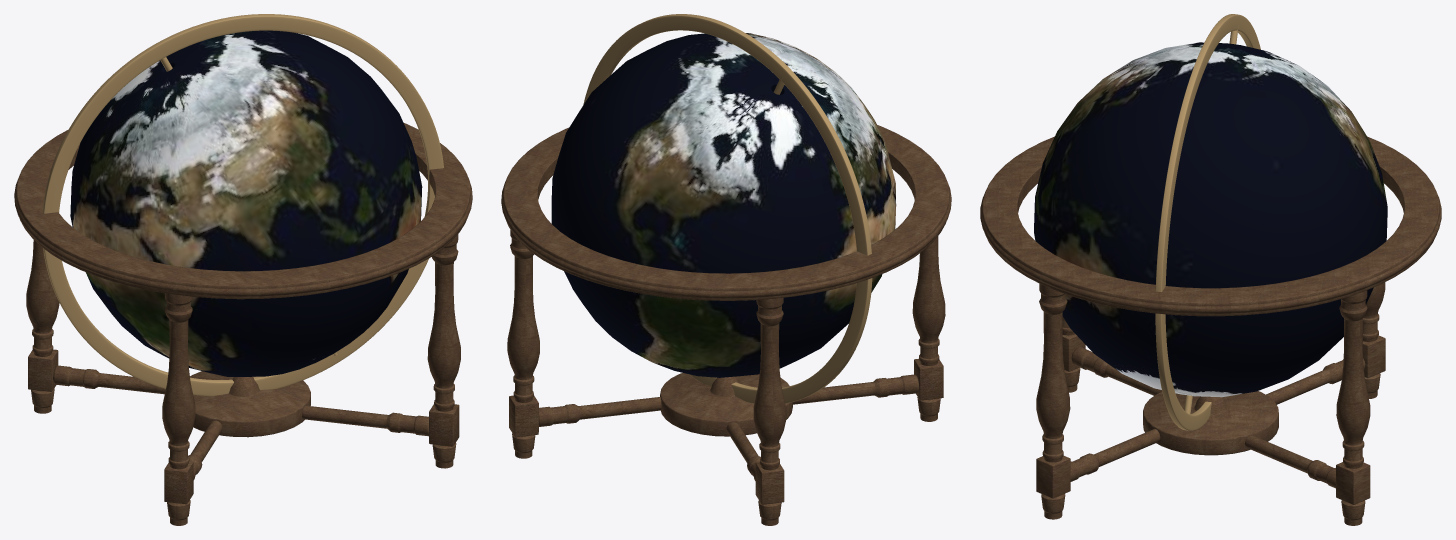
The model's file is Globe.glb.
The picture shows the model from 3 angles, left to right: view 1: azimuth 30°, elevation 25°; view 2: azimuth 150°, elevation 25°; view 3: azimuth 270°, elevation 25°; orthographic projection. The views are drawn at different scales.
Visible parts, largest first — view 1: Eartn globe.001, Eartn globe; view 2: Eartn globe.001, Eartn globe; view 3: Eartn globe.001, Eartn globe.
Boxes of the visible parts, x1,y1,x2,y2 form: Eartn globe.001: (70, 30, 422, 376); Eartn globe: (14, 14, 472, 525); Eartn globe.001: (551, 33, 896, 377); Eartn globe: (501, 14, 951, 525); Eartn globe.001: (1034, 42, 1387, 397); Eartn globe: (980, 14, 1441, 525).
Size of the model in its own units: 0.3683 by 0.3729 by 0.3683.
Materials: 3 (2 with a texture image).
